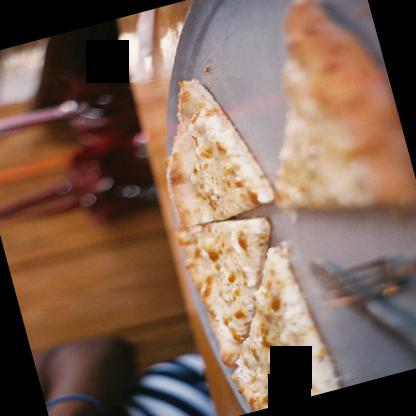handbag: (0, 55, 154, 225)
